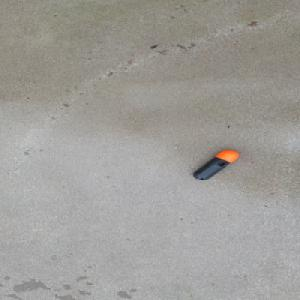PlasticPart: (190, 149, 239, 180)
